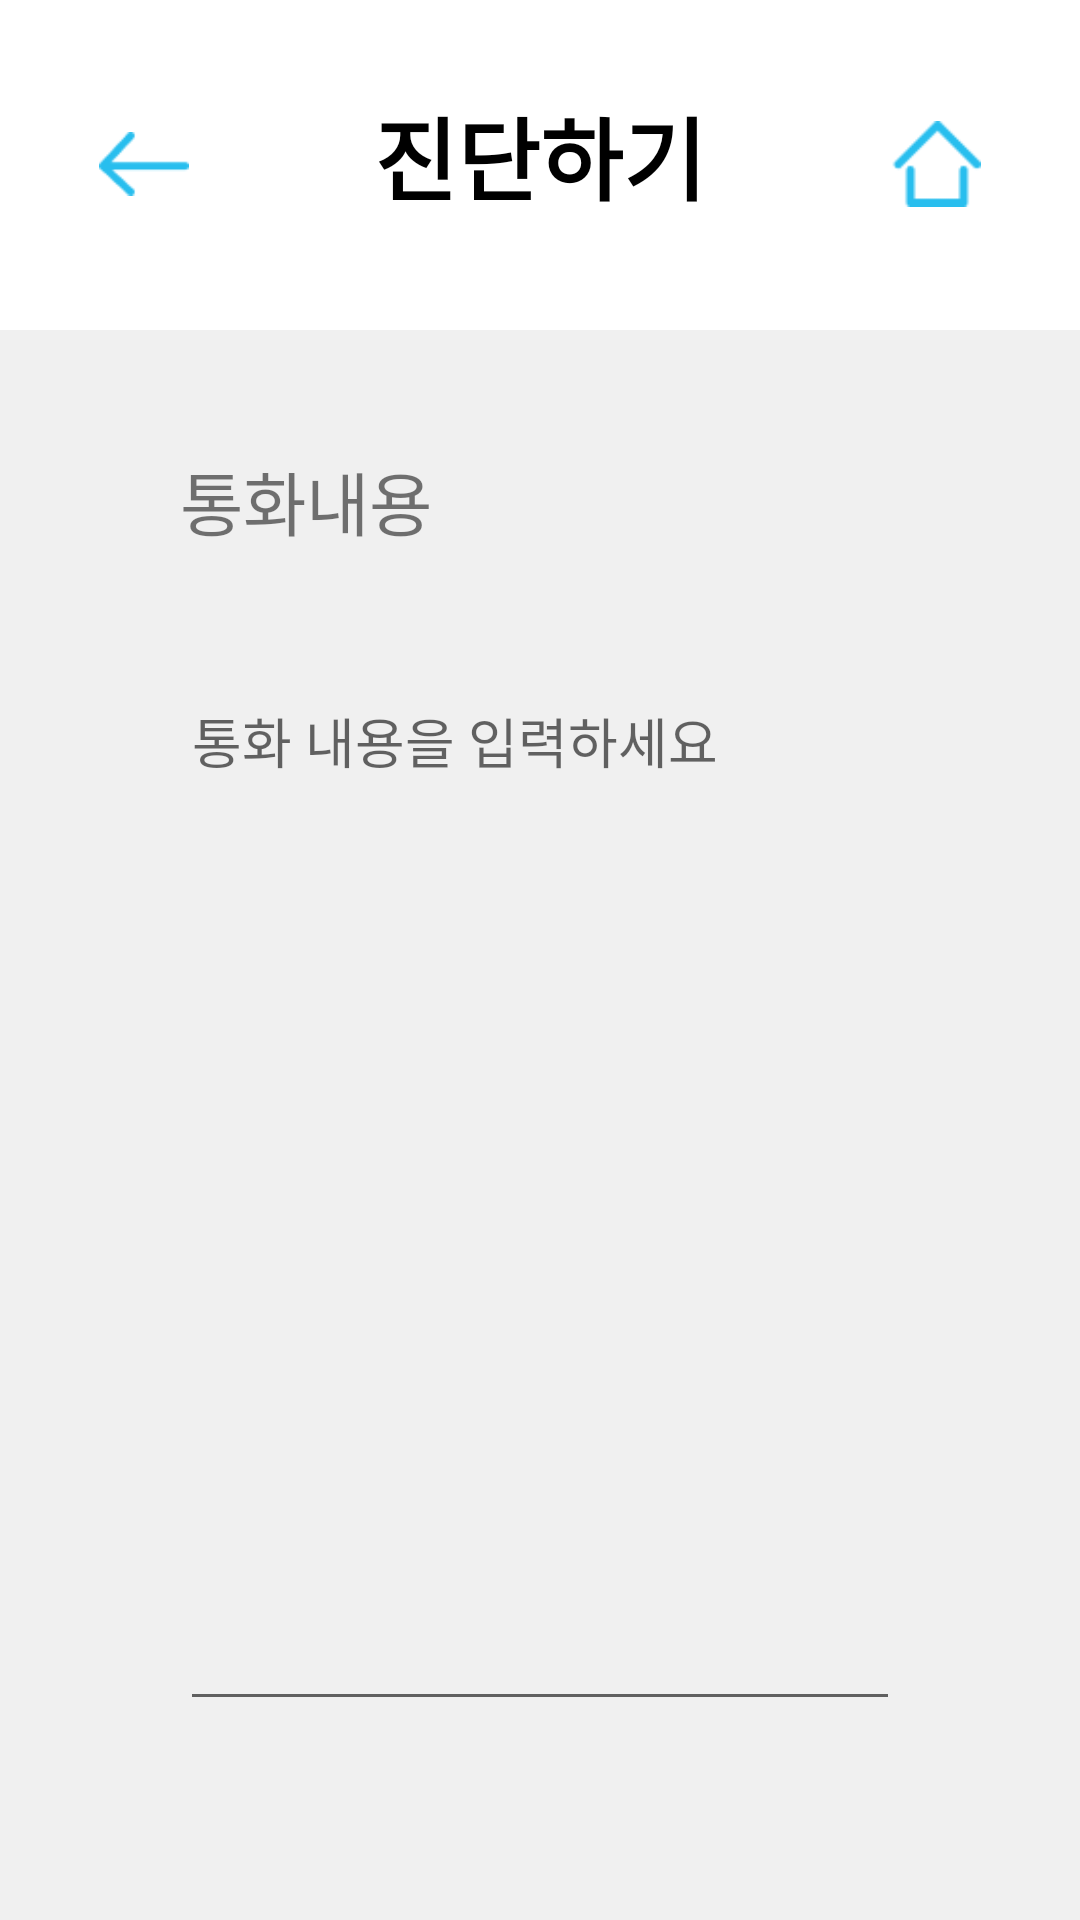

Icon click points for this 1080px×1920px phone screenshot, format (x=x, y=y):
backbtn: (x=144, y=164)
homebtn: (x=937, y=164)
